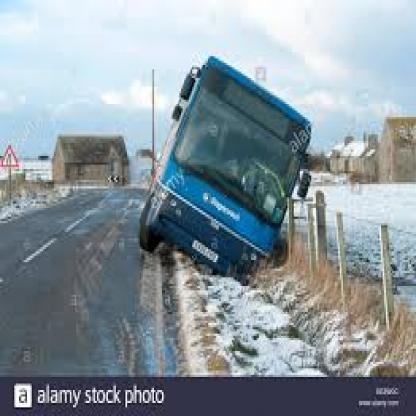accident: (132, 61, 328, 284)
